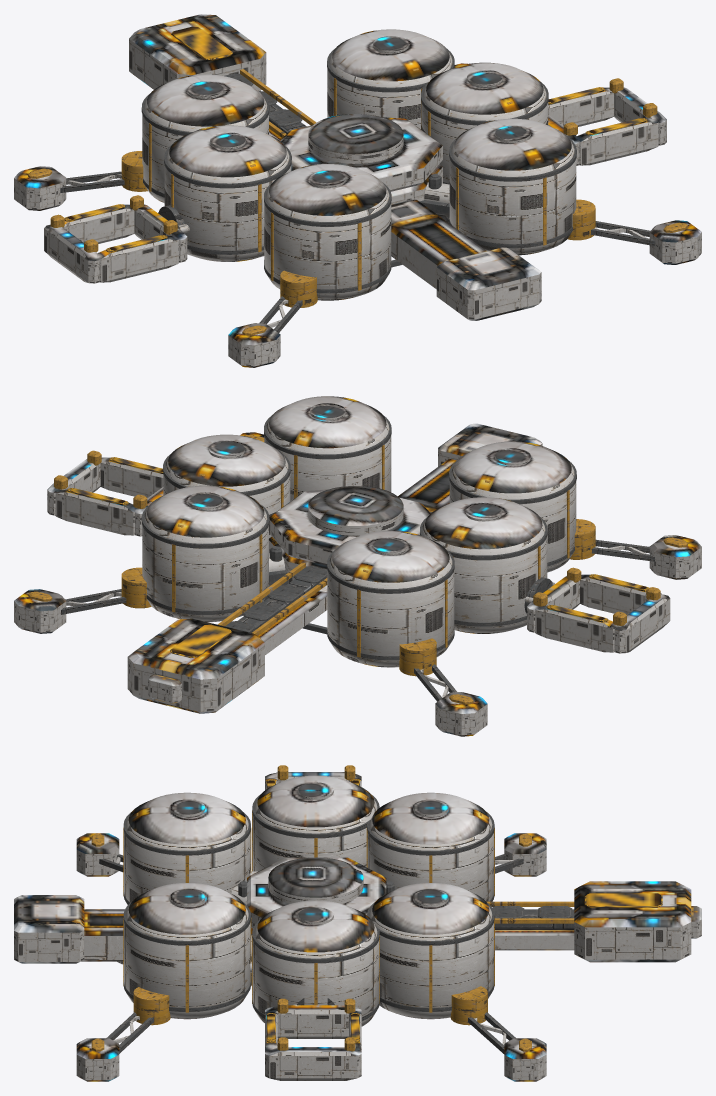
The model's file is mining-belt-station.glb.
The picture shows the model from 3 angles, top to bottom: view 1: azimuth 30°, elevation 25°; view 2: azimuth 150°, elevation 25°; view 3: azimuth 270°, elevation 25°; orthographic projection.
Visible parts, largest first — view 1: hull / Reference titanium and industrial fittings, hull / Ventral reference plating; view 2: hull / Reference titanium and industrial fittings, hull / Ventral reference plating; view 3: hull / Reference titanium and industrial fittings, hull / Ventral reference plating.
Part boxes in pixels (x1,y1,x2,y2): hull / Reference titanium and industrial fittings: (14, 14, 701, 366); hull / Ventral reference plating: (27, 73, 696, 367); hull / Reference titanium and industrial fittings: (14, 396, 701, 735); hull / Ventral reference plating: (19, 555, 688, 736); hull / Reference titanium and industrial fittings: (14, 765, 701, 1080); hull / Ventral reference plating: (19, 871, 697, 1081).
Size of the model in its own units: 15.67 by 3.08 by 16.17.
Materials: 2 (2 with a texture image).
